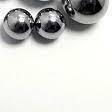ironball: (34, 6, 70, 46), (63, 0, 111, 28), (0, 7, 32, 46), (17, 0, 70, 4)
